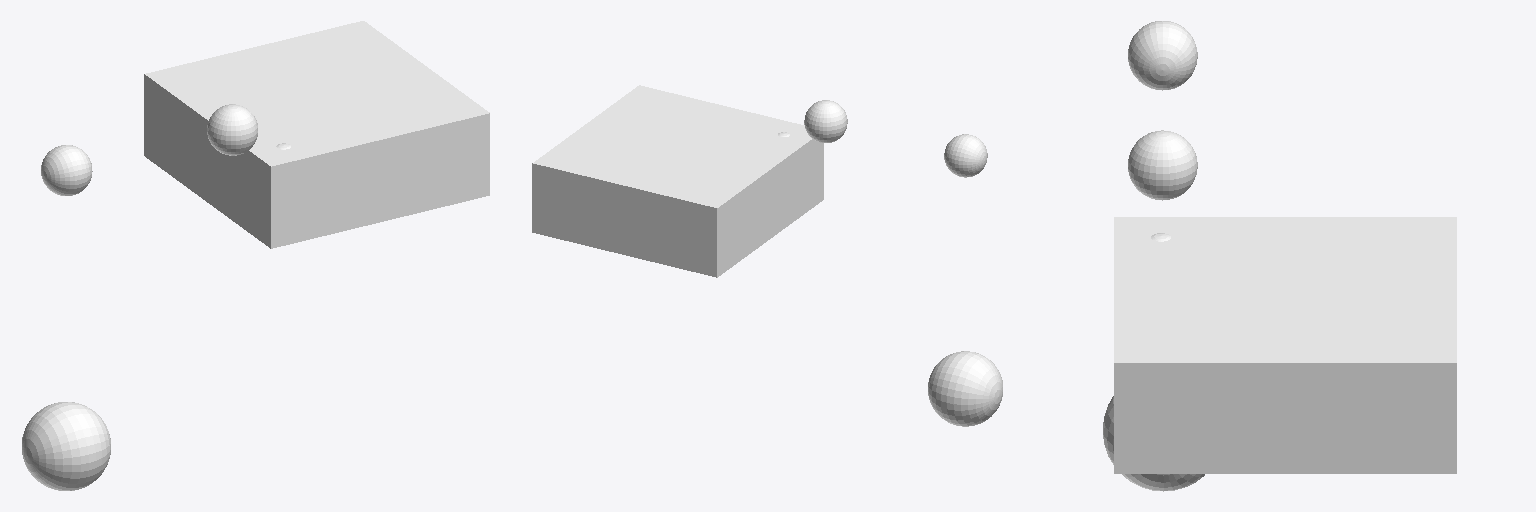
The robot description file, URDF, robot "SpibotRl":
<?xml version="1.0" encoding="utf-8"?>
<!-- This URDF was automatically created by SolidWorks to URDF Exporter! Originally created by [author] ([email redacted]) 
     Commit Version: 1.6.0-4-g7f85cfe  Build Version: 1.6.7995.38578
     For more information, please see http://wiki.ros.org/sw_urdf_exporter -->
<robot name="SpibotRl">
  <link name="base">
    <inertial>
      <origin xyz="-0.0053069 -9.5983E-05 0.024681" rpy="0 0 0" />
      <mass value="8.956765" />
      <inertia ixx="0.109196" ixy="0.0" ixz="0.0" iyy="0.084796" iyz="0.0" izz="0.159461" />
    </inertial>
    <visual>
      <origin xyz="0 0 0" rpy="0 0 0" />
      <geometry>
        <box size="0.304 0.304 0.109" />
      </geometry>
      <material name="">
        <color rgba="1 1 1 1" />
      </material>
    </visual>
    <collision>
      <origin xyz="0 0 0" rpy="0 0 0" />
      <geometry>
        <box size="0.304 0.304 0.109" />
      </geometry>
    </collision>
  </link>
  <link name="RR_hip">
    <visual>
      <origin xyz="0 0 0" rpy="0 0 0" />
      <geometry>
        <sphere radius="0.031" />
      </geometry>
      <material name="">
        <color rgba="1 1 1 1" />
      </material>
    </visual>
    <collision>
      <origin xyz="0 0 0" rpy="0 0 0" />
      <geometry>
        <sphere radius="0.031" />
      </geometry>
    </collision>
  </link>
  <joint name="RR_hip_joint" type="revolute">
    <origin xyz="-0.11 -0.11 0.025" rpy="0 0 0" />
    <parent link="base" />
    <child link="RR_hip" />
    <axis xyz="0 0 1" />
    <limit lower="-0.25" upper="1.85" effort="100" velocity="30" />
  </joint>

  <link name="RR_thigh">
    <visual>
      <origin xyz="0 0 0" rpy="0 0 0" />
      <geometry>
        <sphere radius="0.031" />
      </geometry>
      <material name="">
        <color rgba="1 1 1 1" />
      </material>
    </visual>
    <collision>
      <origin xyz="0 0 0" rpy="0 0 0" />
      <geometry>
        <sphere radius="0.031" />
      </geometry>
    </collision>
  </link>
  <joint name="RR_thigh_joint" type="revolute">
    <origin xyz="-0.07 0.0015 0.067" rpy="0 0 0" />
    <parent link="RR_hip" />
    <child link="RR_thigh" />
    <axis xyz="0 -1 0" />
    <limit lower="-2.0" upper="1.0" effort="100" velocity="30" />
  </joint>

  <link name="RR_calf">
    <visual>
      <origin xyz="0 0 0" rpy="0 0 0" />
      <geometry>
        <sphere radius="0.031" />
      </geometry>
      <material name="">
        <color rgba="1 1 1 1" />
      </material>
    </visual>
    <collision>
      <origin xyz="0 0 0" rpy="0 0 0" />
      <geometry>
        <sphere radius="0.031" />
      </geometry>
    </collision>
  </link>
  <joint name="RR_calf_joint" type="revolute">
    <origin xyz="-0.23 0 0" rpy="3.1416 -1.5708 0" />
    <parent link="RR_thigh" />
    <child link="RR_calf" />
    <axis xyz="0 -1 0" />
    <limit lower="-0.55" upper="2.0" effort="100" velocity="30" />
  </joint>

  <link name="RR_foot">
    <visual>
      <origin xyz="0 0 0" rpy="0 0 0" />
      <geometry>
        <sphere radius="0.054" />
      </geometry>
      <material name="">
        <color rgba="1 1 1 1" />
      </material>
    </visual>
    <collision>
      <origin xyz="0 0 0" rpy="0 0 0" />
      <geometry>
        <sphere radius="0.054" />
      </geometry>
    </collision>
  </link>
  <joint name="RR_foot_joint" type="fixed" dont_collapse="true">
    <origin xyz="-0.36572 -0.00075 0" rpy="0 0 0" />
    <parent link="RR_calf" />
    <child link="RR_foot" />
    <axis xyz="0 0 0" />
  </joint>

</robot>

--- What the picture shows (computed from the rendered views, not written in the file) ---
The picture shows the robot from 3 angles, left to right: view 1: azimuth 30°, elevation 25°; view 2: azimuth 150°, elevation 25°; view 3: azimuth 270°, elevation 25°; orthographic projection.
Robot: SpibotRl — 5 links, 4 joints (3 revolute, 1 fixed); root link base; default pose: all joints at 0.
Visible links, largest first — view 1: base, RR_foot, RR_calf, RR_thigh; view 2: base, RR_foot, RR_calf, RR_thigh; view 3: base, RR_thigh, RR_calf, RR_foot.
Link boxes in pixels (x1=…): base: x1=144, y1=21, x2=489, y2=248; RR_foot: x1=22, y1=402, x2=110, y2=490; RR_calf: x1=41, y1=145, x2=92, y2=195; RR_thigh: x1=207, y1=104, x2=257, y2=155; base: x1=532, y1=85, x2=823, y2=277; RR_foot: x1=928, y1=351, x2=1002, y2=426; RR_calf: x1=944, y1=134, x2=987, y2=177; RR_thigh: x1=804, y1=100, x2=847, y2=142; base: x1=1114, y1=217, x2=1456, y2=473; RR_thigh: x1=1128, y1=130, x2=1197, y2=200; RR_calf: x1=1128, y1=21, x2=1197, y2=90; RR_foot: x1=1103, y1=396, x2=1204, y2=491.
Bounding box of the posed robot: 0.616 × 0.3137 × 0.4507 m (x, y, z).
Geometry: primitives only (box / cylinder / sphere), no mesh files.